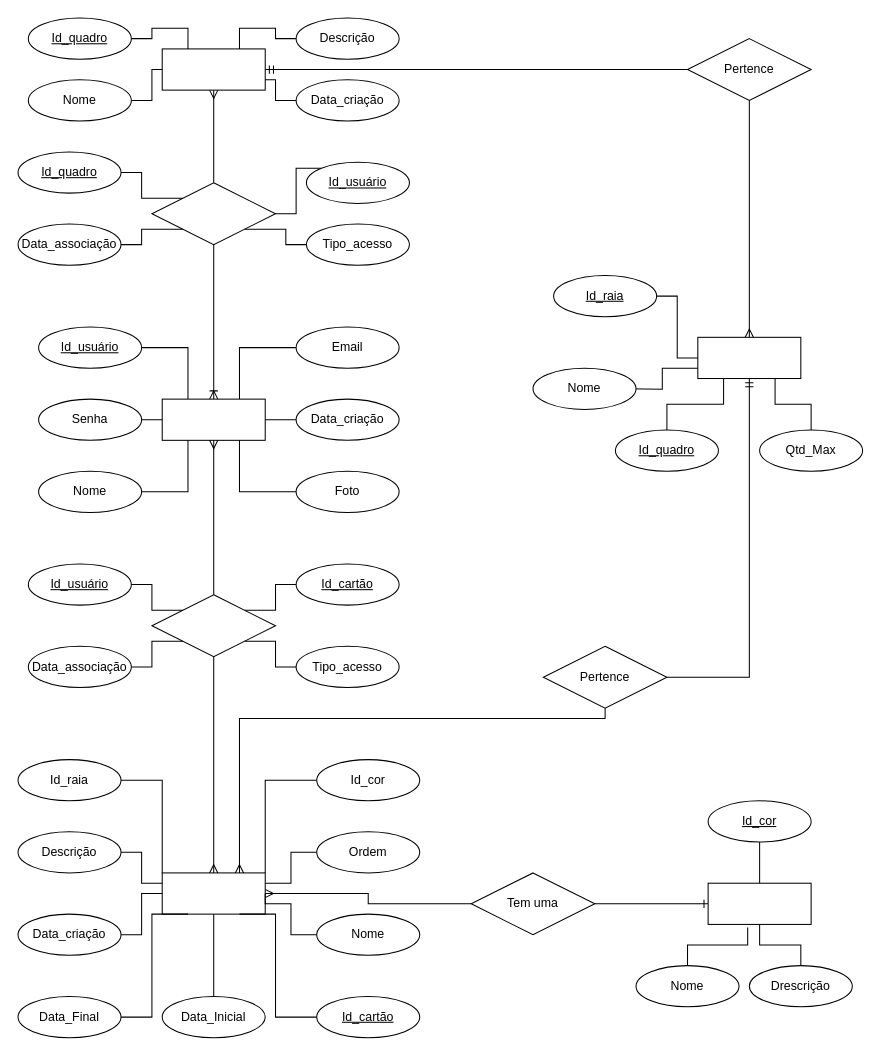
The diagram is 881 pixels wide and 1056 high, and some of its shapes have lost their labels. Each missing label, with the box of its shape:
Cartão: (161, 872, 265, 914)
Cor: (707, 882, 811, 924)
Participa: (151, 182, 276, 245)
Quadro: (161, 48, 265, 90)
Raia: (697, 336, 801, 379)
Relationship: (151, 594, 276, 657)
Usuário: (161, 398, 265, 440)
